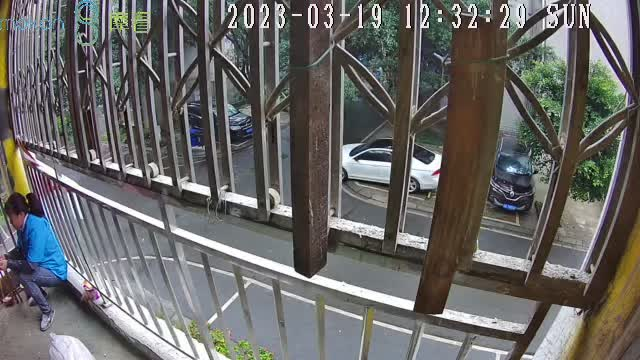people: (3, 191, 70, 330)
window: (9, 1, 640, 359)
